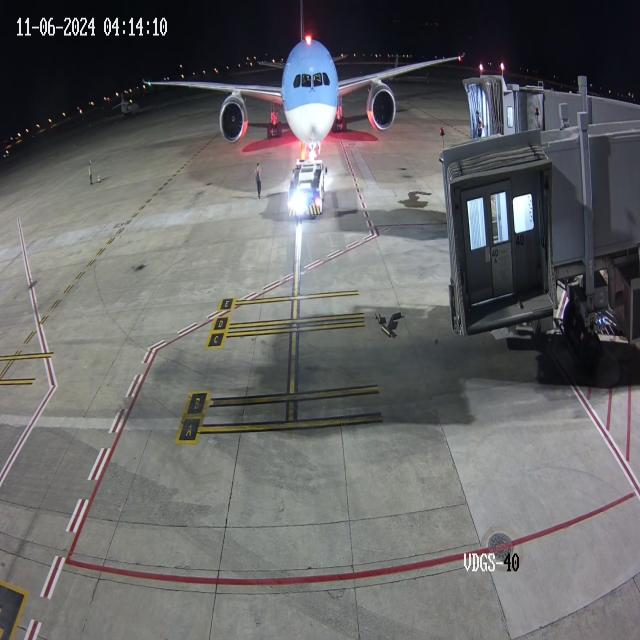bridge: (490, 70, 545, 138)
plane: (131, 0, 452, 158)
window: (288, 67, 334, 92)
